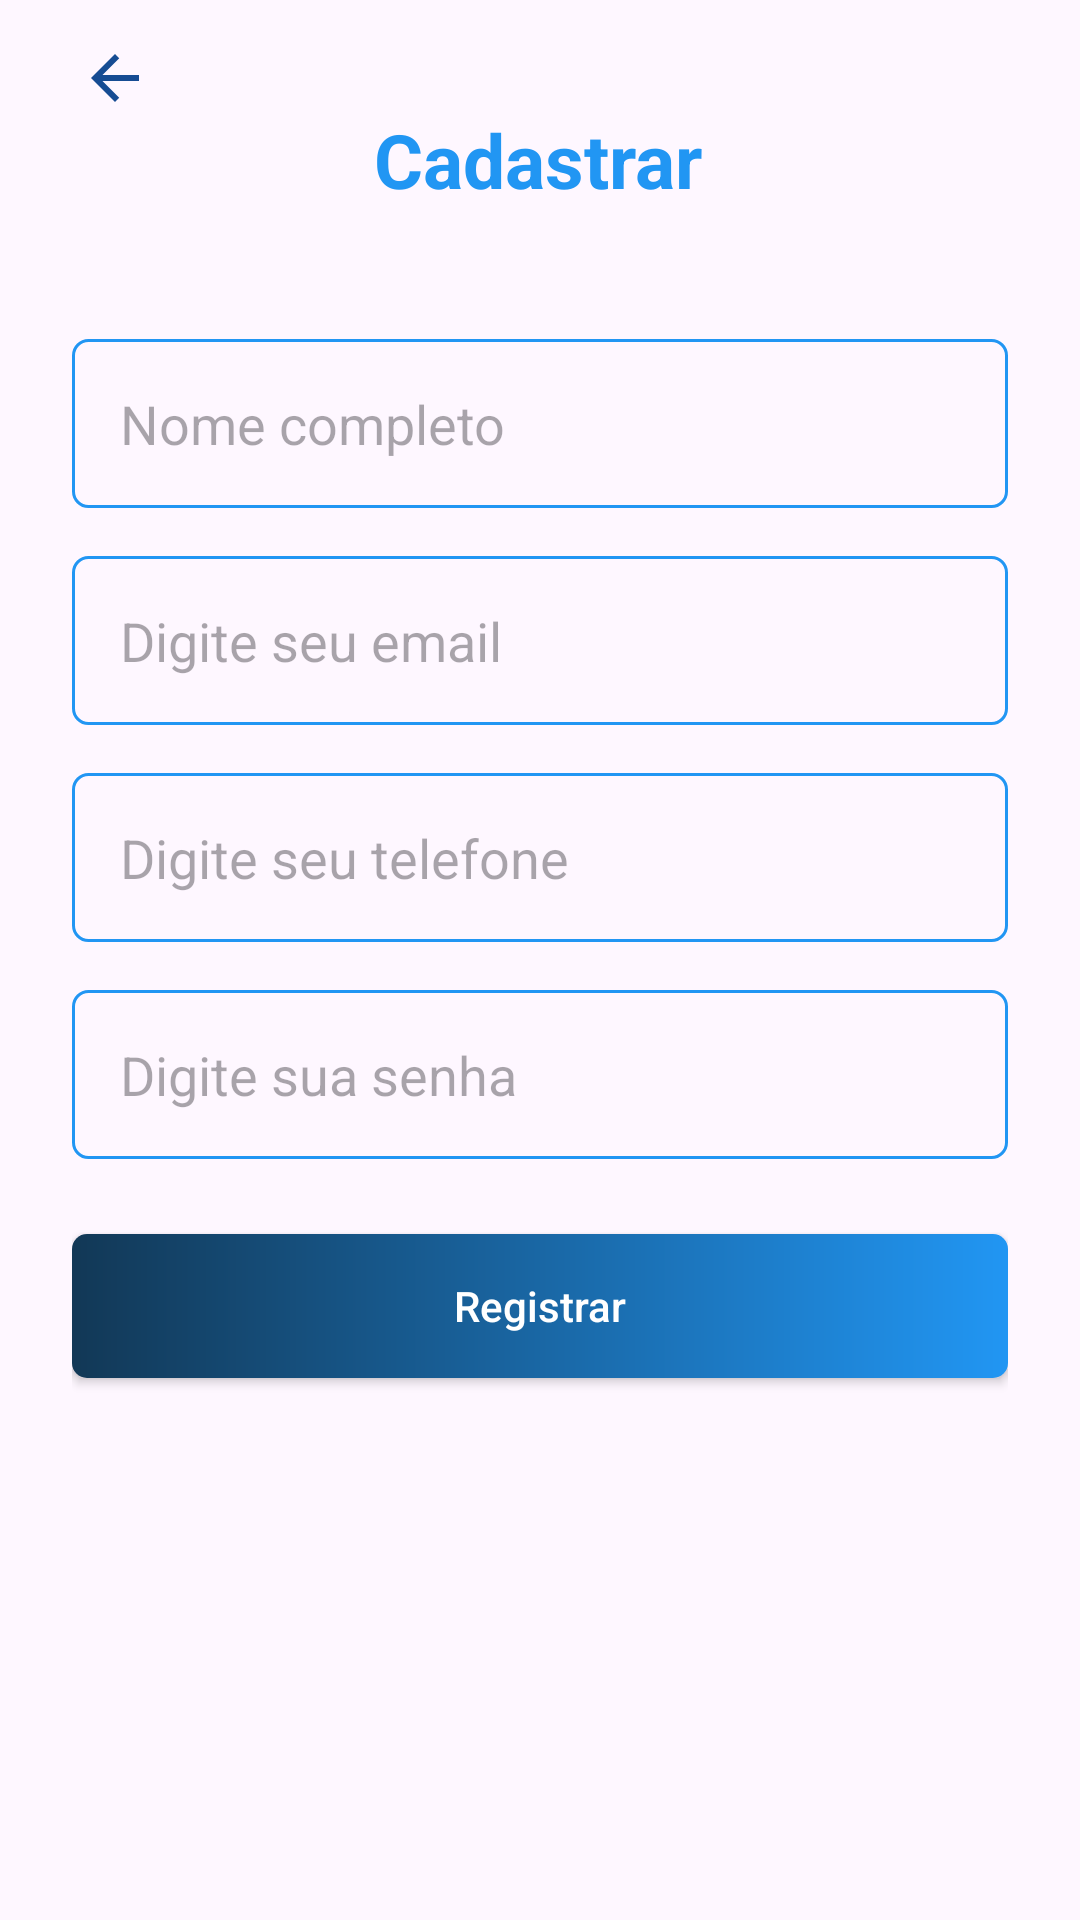

Locate icon controls on the screen. Image size 1080x1920, boxes as box(x1, y1, x2, y2).
back: box(91, 54, 139, 102)
